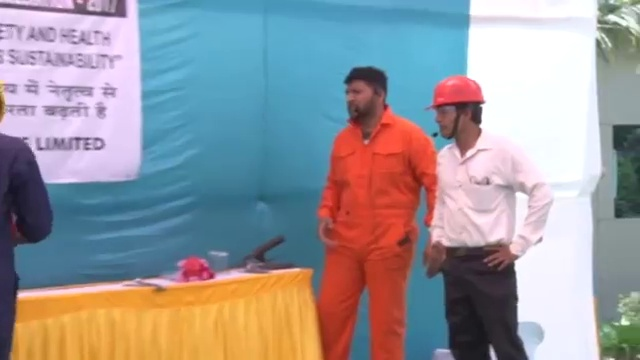helmet: (422, 75, 487, 111)
helmet_off: (341, 64, 387, 120)
helmet_on: (424, 75, 484, 153)
person: (422, 73, 554, 360), (315, 64, 442, 360), (1, 82, 52, 355)
